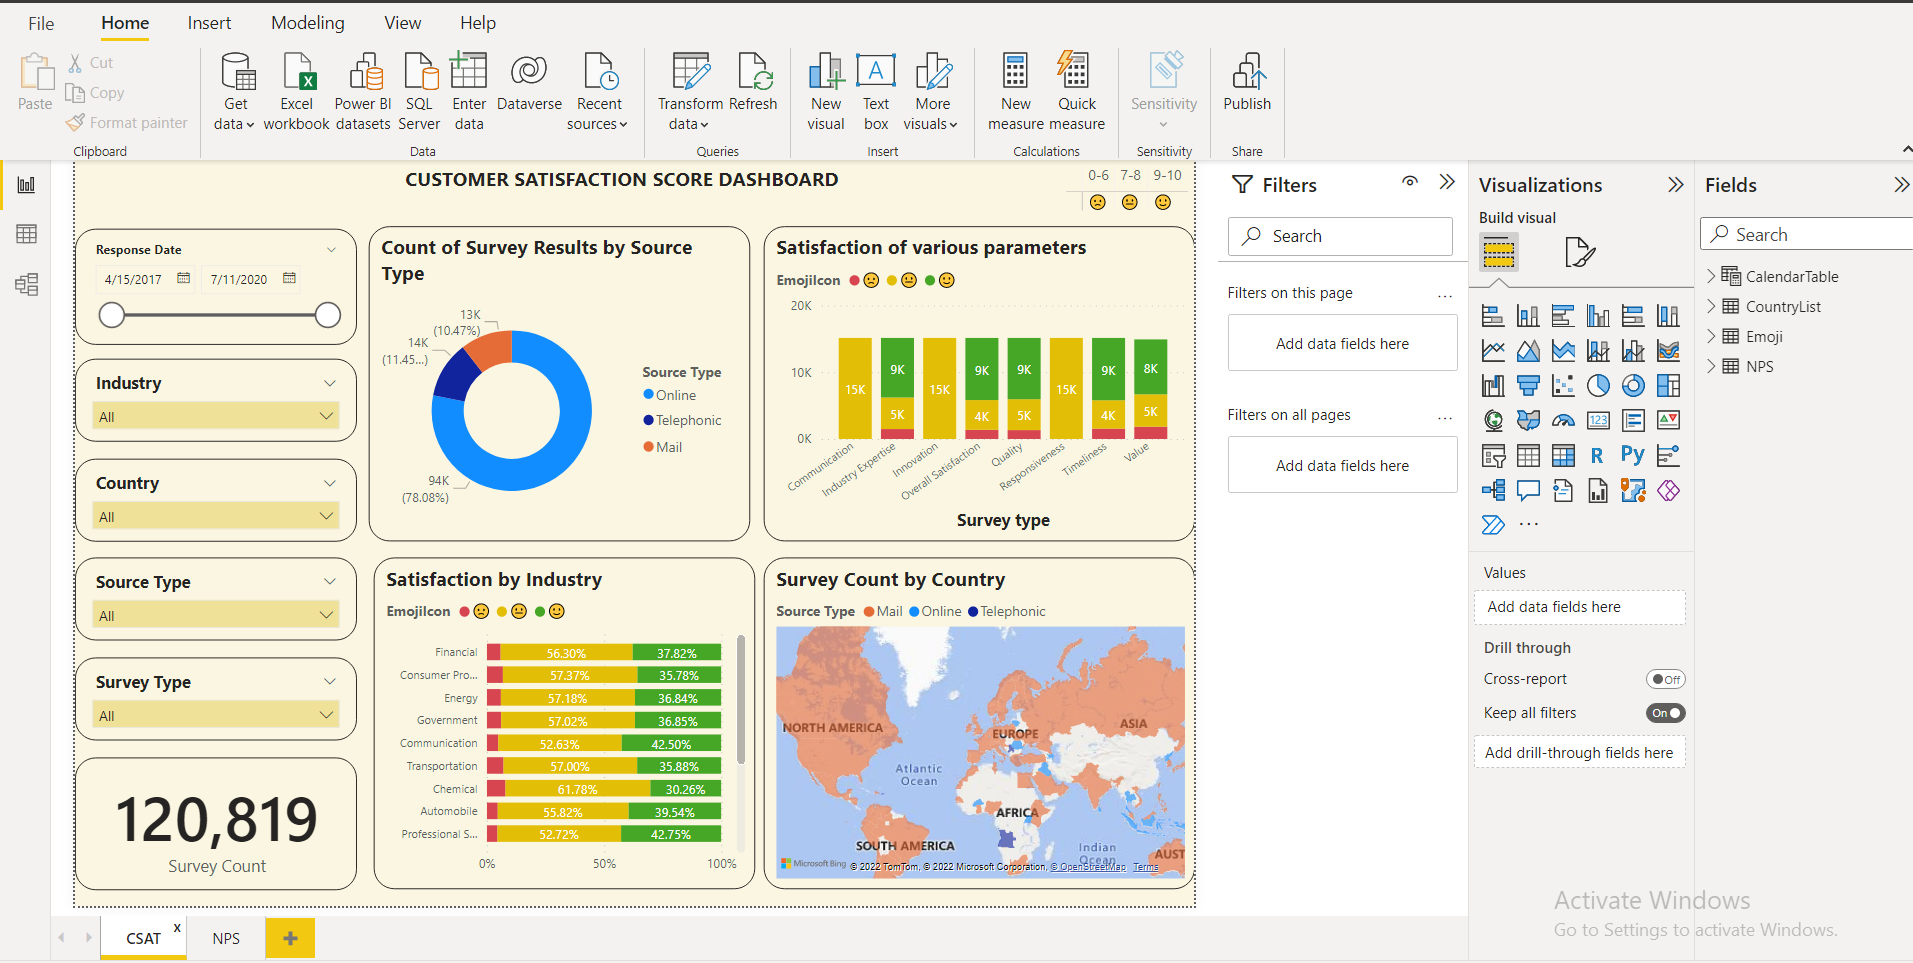

The dashboard page shown, as its layout file describes it:
{"tool":"powerbi","page":{"name":"CSAT","canvas":[1080,720],"ordinal":0},"visuals":[{"type":"textbox","box":[192,0,672,48],"z":0},{"type":"slicer","fields":{"Values":["CalendarTable.Date"]},"box":[0,66.7,272,112],"z":1000},{"type":"slicer","fields":{"Values":["NPS.Industry"]},"box":[0,192,272,80],"z":2000},{"type":"slicer","fields":{"Values":["NPS.Source Type"]},"box":[0,384,272,80],"z":3000},{"type":"slicer","fields":{"Values":["CountryList.Country Name"]},"box":[0,288,272,80],"z":4000},{"type":"slicer","fields":{"Values":["NPS.Survey type"]},"box":[0,480,272,80],"z":5000},{"type":"card","fields":{"Values":["NPS.JustCount"]},"box":[0,576,272,128],"z":6000},{"type":"donutChart","title":"Count of Survey Results by Source Type","fields":{"Y":["NPS.JustCount"],"Category":["NPS.Source Type"]},"box":[284,64,368,304],"z":7000},{"type":"columnChart","title":"Satisfaction of various parameters","fields":{"Category":["NPS.Survey type"],"Y":["NPS.JustCount"],"Series":["Emoji.EmojiIcon"]},"box":[664,64,416,304],"z":8000},{"type":"hundredPercentStackedBarChart","title":"Satisfaction by Industry","fields":{"Category":["NPS.Industry"],"Y":["NPS.JustCount"],"Series":["Emoji.EmojiIcon"]},"box":[288,384,368,320],"z":9000},{"type":"filledMap","title":"Survey Count by Country","fields":{"Category":["CountryList.Country Name"],"Series":["NPS.Source Type"]},"box":[664,384,416,320],"z":10000},{"type":"pivotTable","fields":{"Columns":["Emoji.Score"],"Values":["Min(Emoji.EmojiIcon)"]},"box":[952,0,128,64],"z":11000}]}

Visuals, with their boxes on the page's 1080x720 design canvas (x1, y1, x2, y2). These are canvas units, not pixel positions in the 1913x963 screenshot, which may show the page scaled, cropped or inside an application window:
textbox: l=192, t=0, r=864, b=48
slicer - CalendarTable.Date: l=0, t=67, r=272, b=179
slicer - NPS.Industry: l=0, t=192, r=272, b=272
slicer - NPS.Source Type: l=0, t=384, r=272, b=464
slicer - CountryList.Country Name: l=0, t=288, r=272, b=368
slicer - NPS.Survey type: l=0, t=480, r=272, b=560
card - NPS.JustCount: l=0, t=576, r=272, b=704
"Count of Survey Results by Source Type" donutChart: l=284, t=64, r=652, b=368
"Satisfaction of various parameters" columnChart: l=664, t=64, r=1080, b=368
"Satisfaction by Industry" hundredPercentStackedBarChart: l=288, t=384, r=656, b=704
"Survey Count by Country" filledMap: l=664, t=384, r=1080, b=704
pivotTable - Emoji.Score x Min(Emoji.EmojiIcon): l=952, t=0, r=1080, b=64
